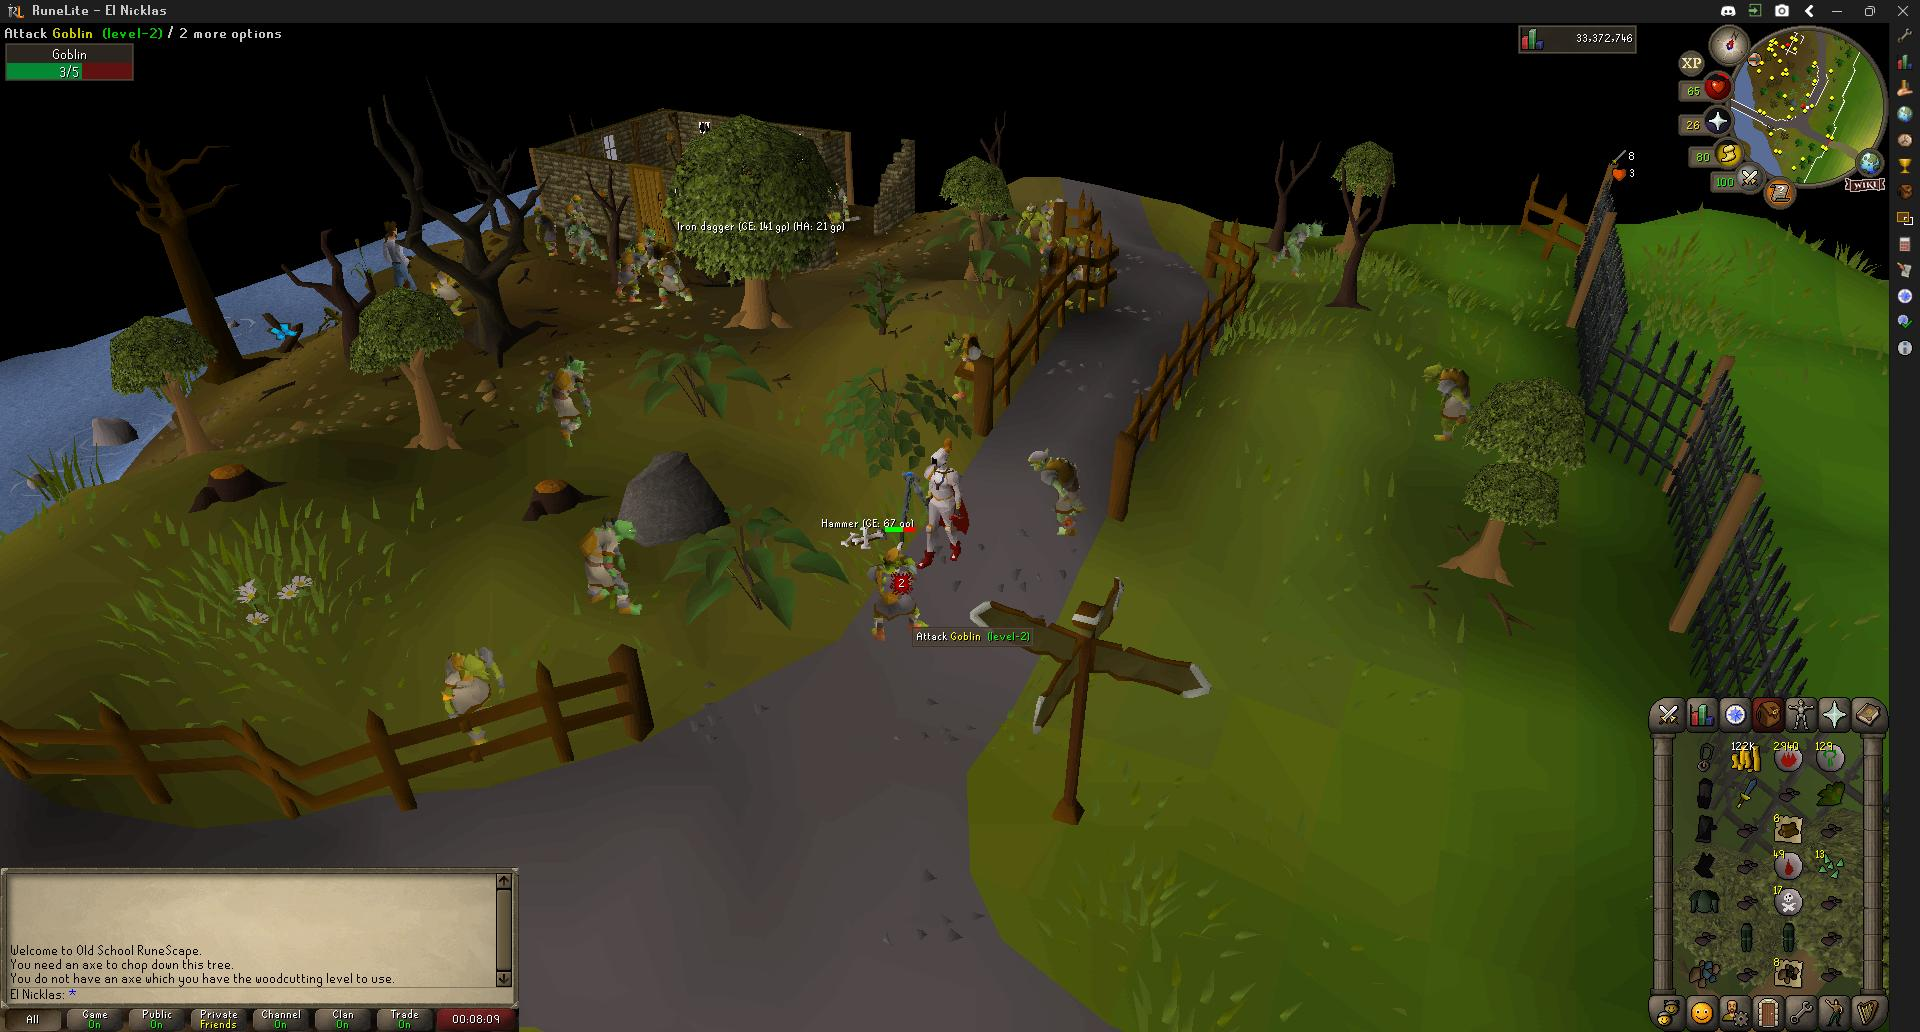Player: (922, 443, 973, 569), (1028, 447, 1083, 542), (865, 543, 922, 634)
goblin: (577, 519, 644, 617), (442, 646, 508, 742), (535, 355, 591, 446), (643, 240, 693, 310), (1422, 363, 1465, 439), (561, 194, 604, 268), (942, 330, 979, 404), (613, 238, 651, 302), (1016, 199, 1056, 255), (427, 269, 469, 320), (529, 190, 560, 257), (829, 182, 856, 232)
